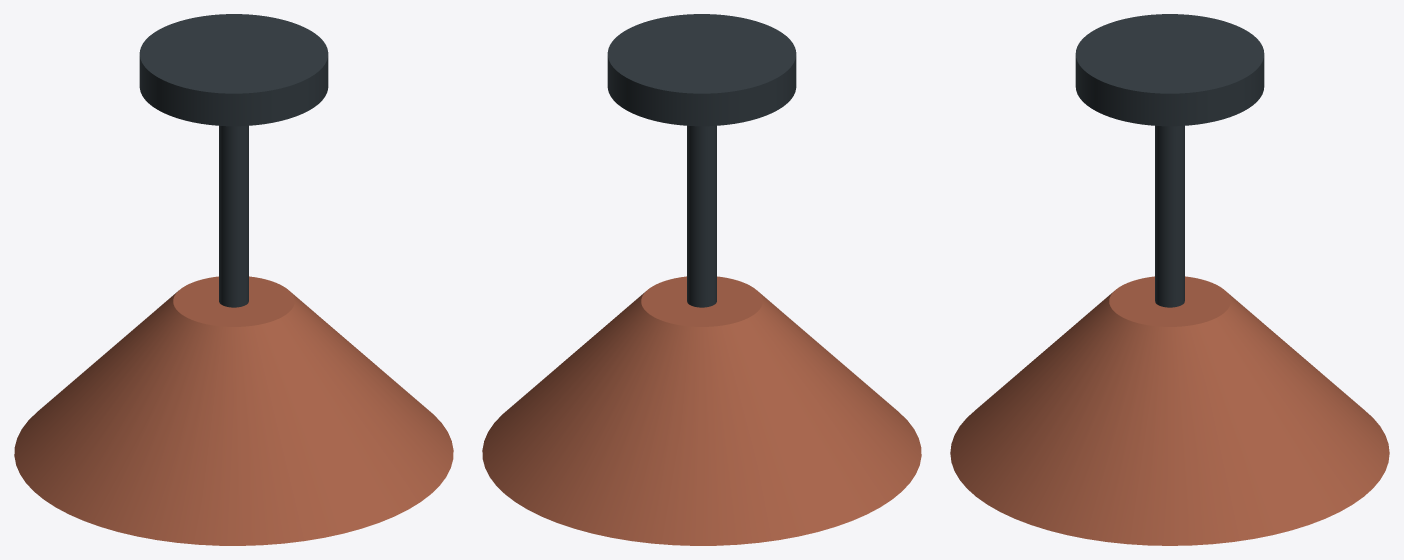
The model's file is ceiling_pendant.glb.
3 renders of one model, left to right at view 1: azimuth 30°, elevation 25°; view 2: azimuth 150°, elevation 25°; view 3: azimuth 270°, elevation 25°, orthographic.
Visible parts, largest first — view 1: Pendant shade, Ceiling canopy, Pendant rod; view 2: Pendant shade, Ceiling canopy, Pendant rod; view 3: Pendant shade, Ceiling canopy, Pendant rod.
Boxes of the visible parts, left/top/right/bottom form: Pendant shade: left=14, top=276, right=453, bottom=545; Ceiling canopy: left=139, top=14, right=328, bottom=126; Pendant rod: left=219, top=125, right=248, bottom=307; Pendant shade: left=482, top=276, right=921, bottom=545; Ceiling canopy: left=607, top=14, right=796, bottom=126; Pendant rod: left=687, top=125, right=716, bottom=307; Pendant shade: left=950, top=276, right=1389, bottom=545; Ceiling canopy: left=1075, top=14, right=1264, bottom=126; Pendant rod: left=1155, top=125, right=1184, bottom=307.
Size of the model in its own units: 0.354 by 0.355 by 0.354.
